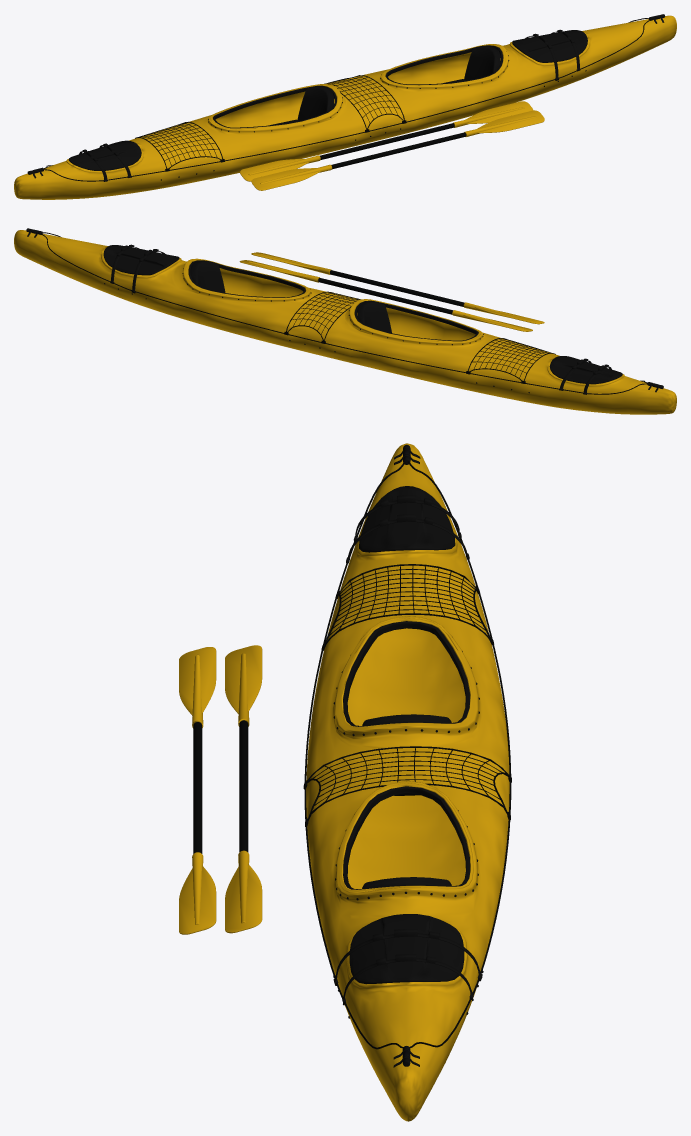
The model's file is 獨木舟.obj.
3 views of the same model, one above another, from view 1: azimuth 30°, elevation 25°; view 2: azimuth 150°, elevation 25°; view 3: azimuth 270°, elevation 25° (orthographic). The views are drawn at different scales.
Parts seen in each view (by area): view 1: kayak; view 2: kayak; view 3: kayak.
Part boxes in pixels (<box>): kayak: <box>14,14,676,199</box>; kayak: <box>14,228,676,414</box>; kayak: <box>179,443,511,1121</box>.
Bounding box in the file's own units: 204 × 16.2 × 44.5.
